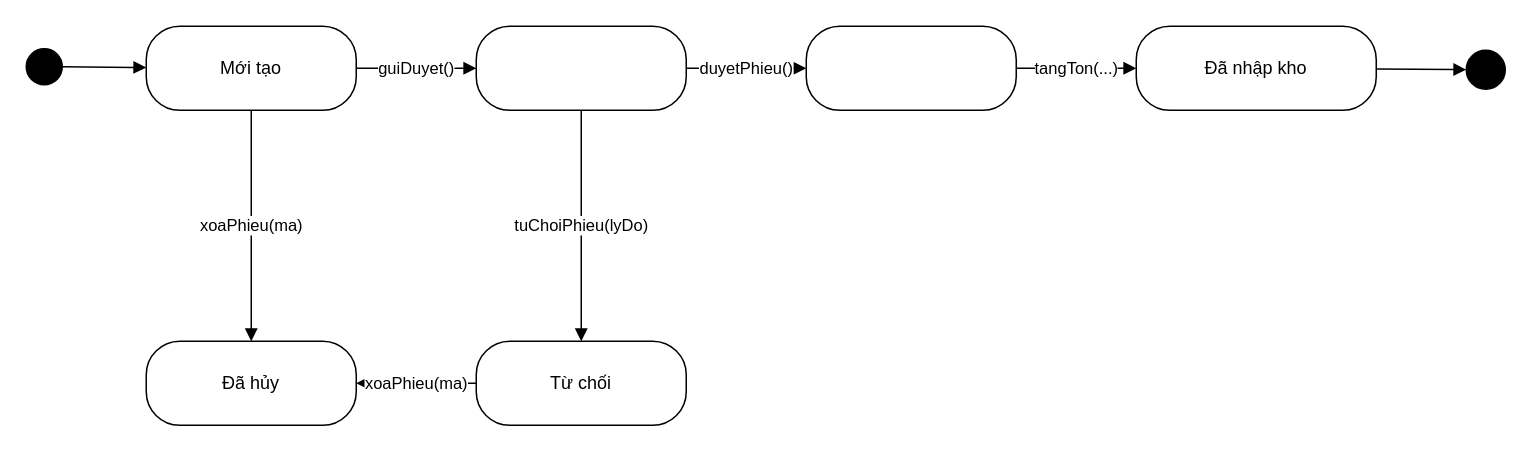
Some shapes in this 1532 by 452 pixel diagram are drawn without their labels. Here are the shapes that lost their labels. From the top down, the centre of each, then its label:
At (580,67): "Chờ duyệt".
At (910,67): "Đã duyệt".
